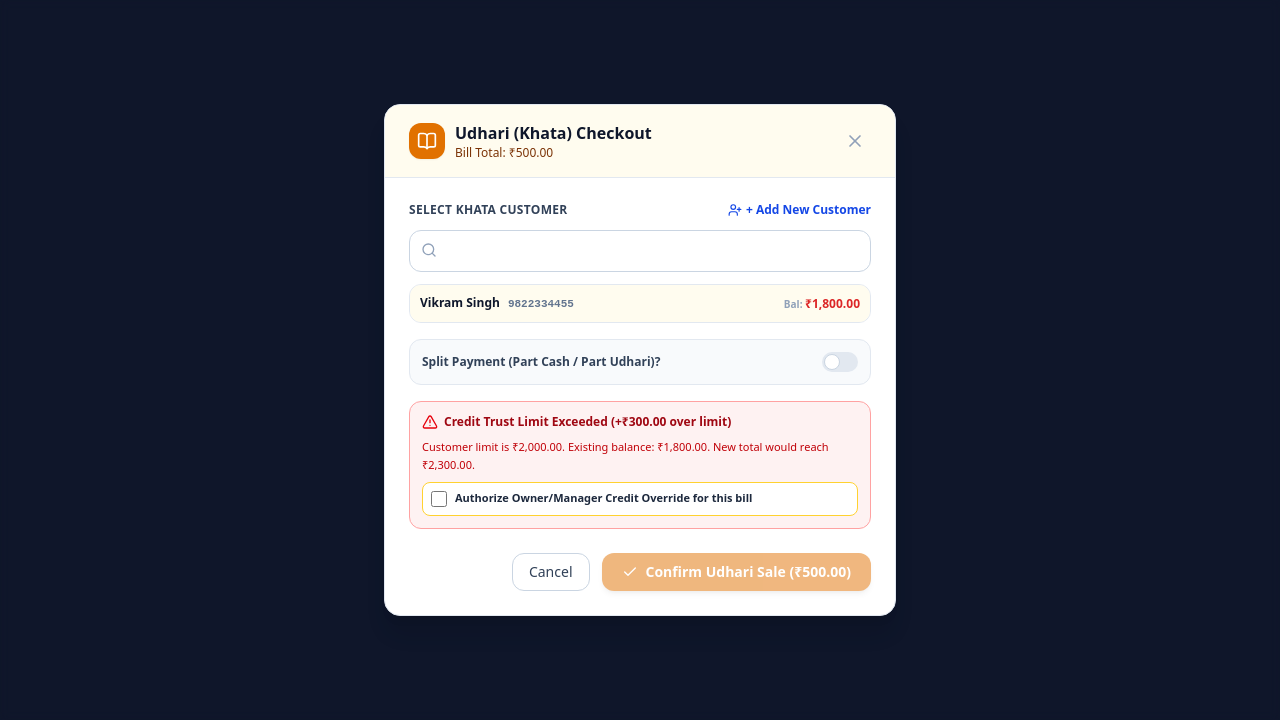
Scenario: Iteration 4: POS HCI Ergonomics, Debounced Shortcuts & Psychological Guardrails › 2. Hard Credit Limit Enforcement & Cashier Guardrail (REQ-29 / AT-08) › blocks Cashier when customer balance + new bill exceeds credit limit until split payment or manager PIN
Later steps or results of the test are not shown.
Expected: the element with test id "credit-limit-warning" is shown, [409,401,871,529]
Expected: the text "Credit Trust Limit Exceeded (+₹300.00 over limit)" is shown, [444,414,731,430]
Note: Toggle Split Payment and enter ₹300 cash paid now
Click the checkbox with test id "split-payment-toggle" at (840, 362), box [822,352,858,372]
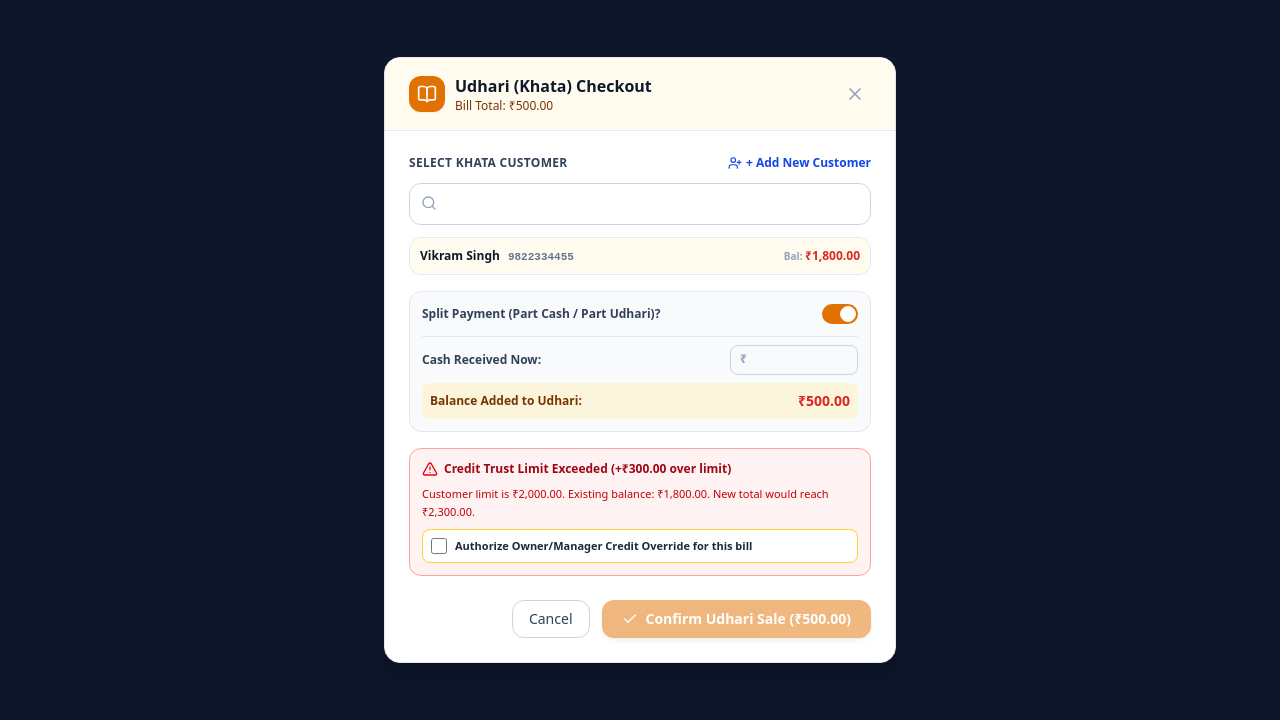
Type "300" into the number field with test id "cash-received-now-input" at (794, 360), box [730,346,858,376]
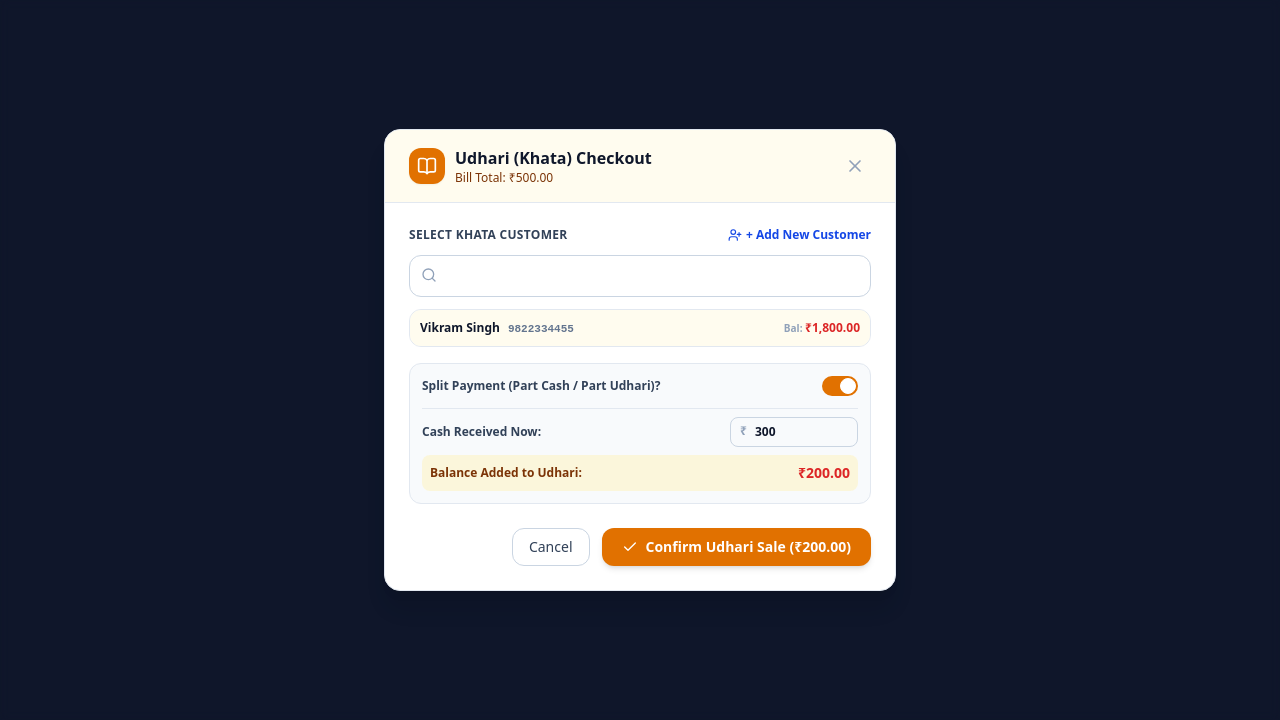
Expected: the element with test id "credit-limit-warning" is gone
